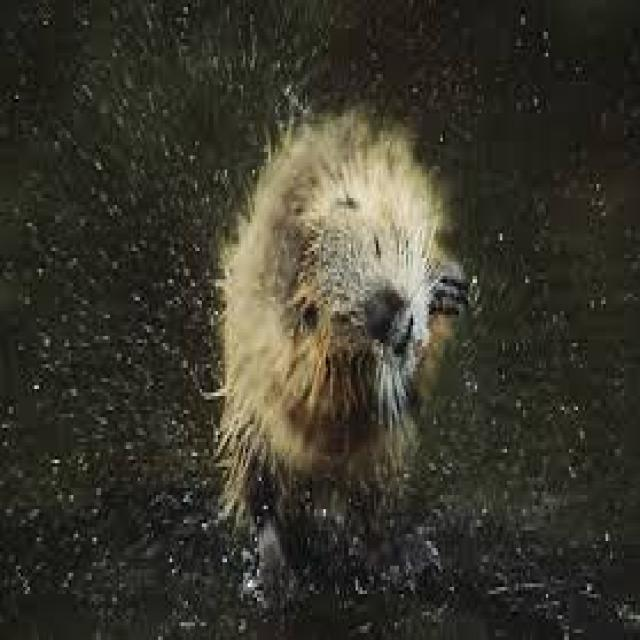rat: (200, 95, 472, 538)
